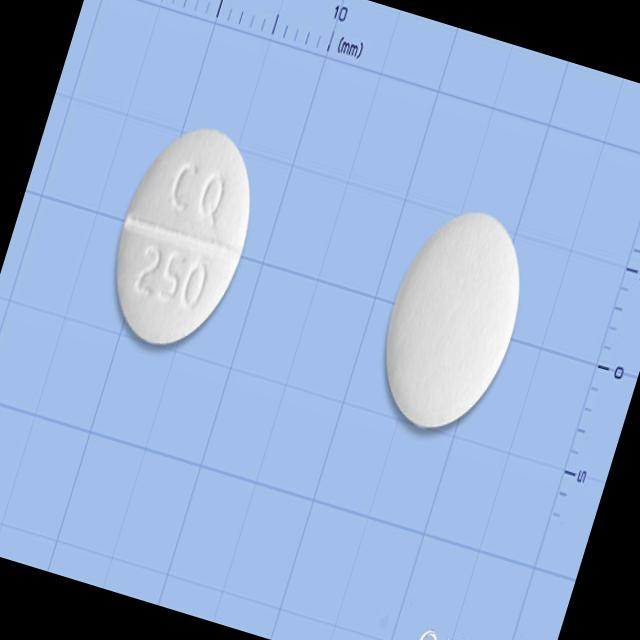Cq Robey: (92, 111, 274, 361)
